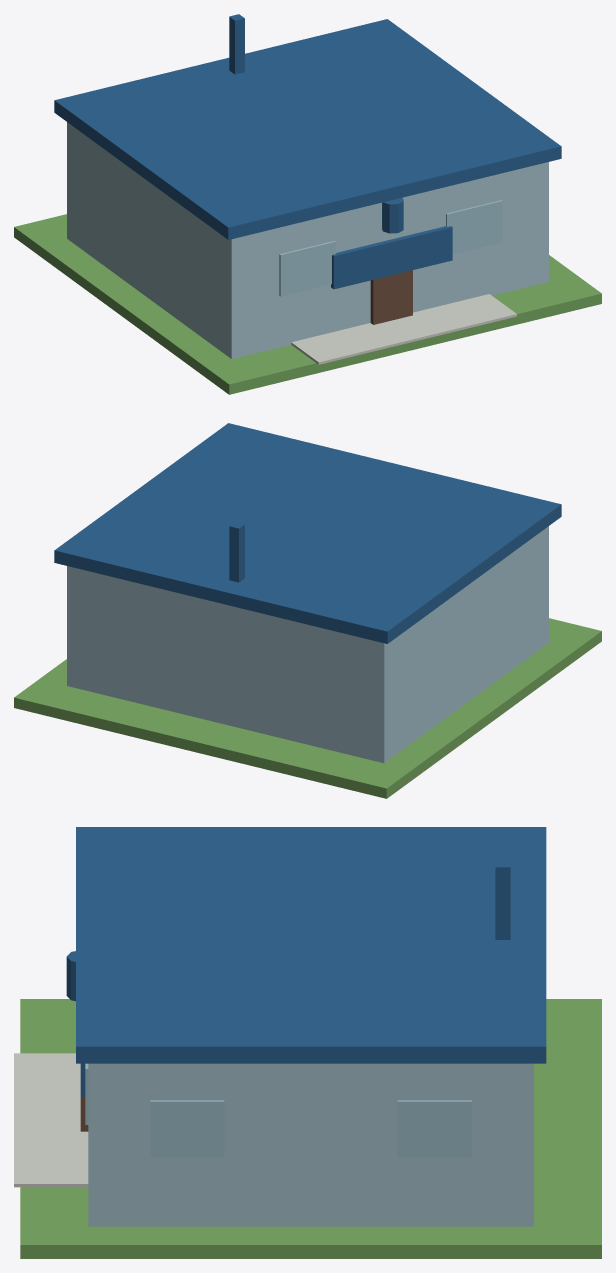
The model's file is policeStation.glb.
3 views of the same model, one above another, from view 1: azimuth 30°, elevation 25°; view 2: azimuth 150°, elevation 25°; view 3: azimuth 270°, elevation 25° (orthographic). The views are drawn at different scales.
Visible parts, largest first — view 1: policeStation; view 2: policeStation; view 3: policeStation.
Boxes of the visible parts, x1,y1,x2,y2 form: policeStation: (14, 14, 601, 394); policeStation: (14, 423, 601, 798); policeStation: (14, 827, 601, 1258).
Bounding box in the file's own units: 1.88 × 0.97 × 1.9.
